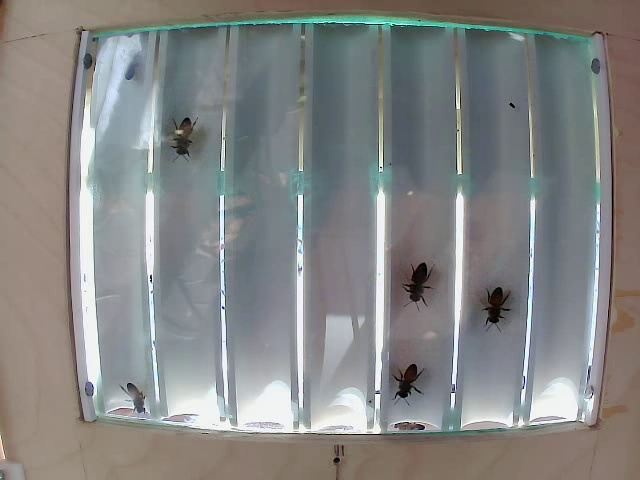bee: (177, 109, 219, 159), (401, 255, 443, 299), (480, 274, 511, 321), (384, 355, 415, 395)
